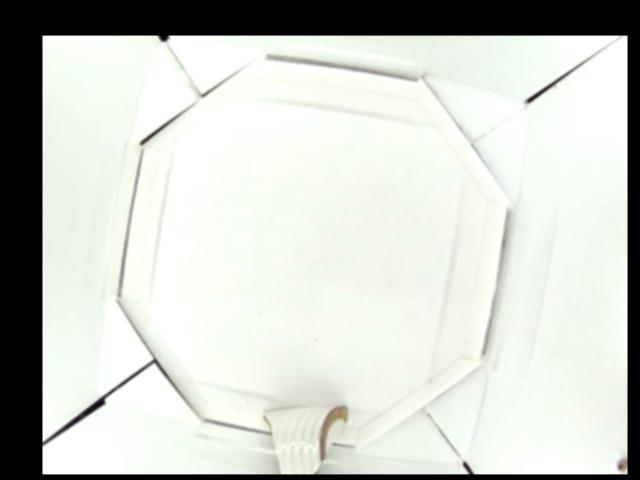China: (255, 402, 347, 474)
